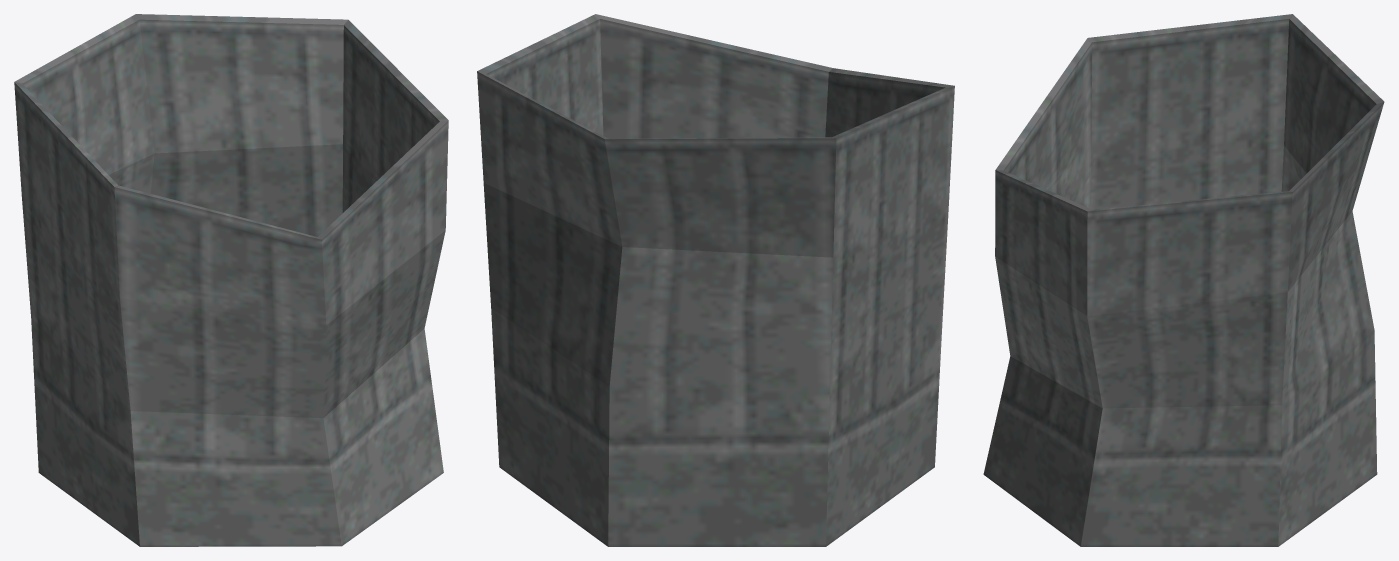
Rendered from Urban_MetaltrashcanBeaten_Model.fbx.
The picture shows the model from 3 angles, left to right: view 1: azimuth 30°, elevation 25°; view 2: azimuth 150°, elevation 25°; view 3: azimuth 270°, elevation 25°; orthographic projection. The views are drawn at different scales.
Parts seen in each view (by area): view 1: Urban_MetaltrashcanBeaten_Mesh; view 2: Urban_MetaltrashcanBeaten_Mesh; view 3: Urban_MetaltrashcanBeaten_Mesh.
Boxes of the visible parts, x1,y1,x2,y2 form: Urban_MetaltrashcanBeaten_Mesh: (14,14,448,546); Urban_MetaltrashcanBeaten_Mesh: (477,14,954,546); Urban_MetaltrashcanBeaten_Mesh: (983,14,1384,546).
Size of the model in its own units: 0.7373 by 0.8092 by 0.7736.
